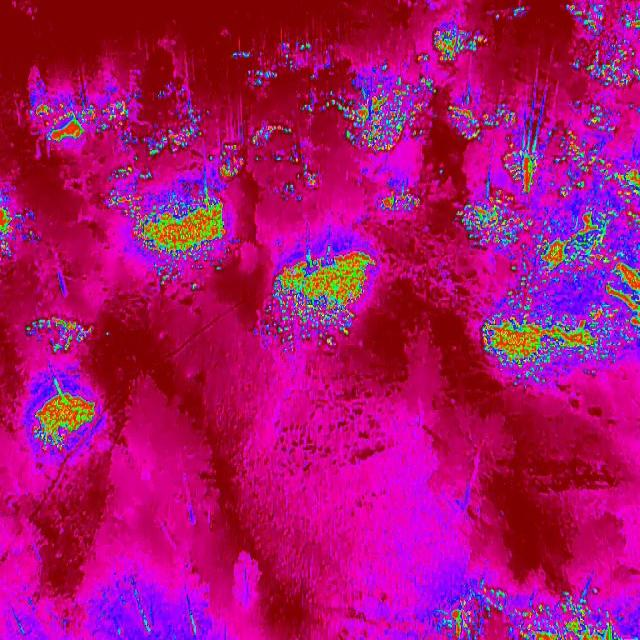fire: (451, 94, 640, 383), (108, 111, 244, 288), (255, 242, 381, 353), (236, 40, 328, 190), (428, 576, 640, 640), (318, 66, 440, 160), (27, 314, 104, 452), (31, 69, 138, 153), (564, 0, 640, 91), (434, 13, 494, 66), (0, 180, 36, 264), (372, 180, 428, 225)
